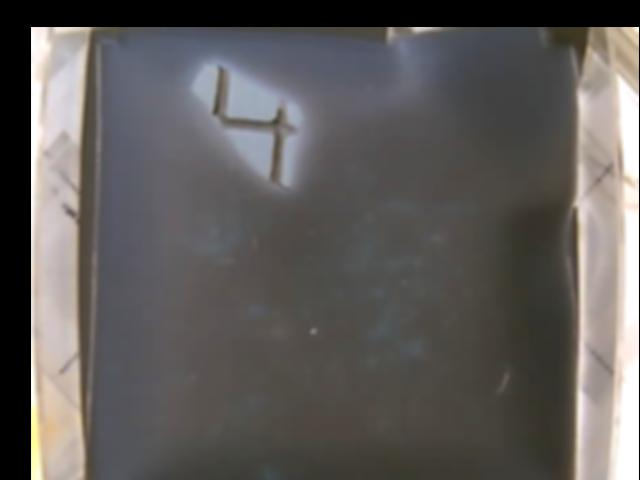China: (193, 62, 300, 193)
